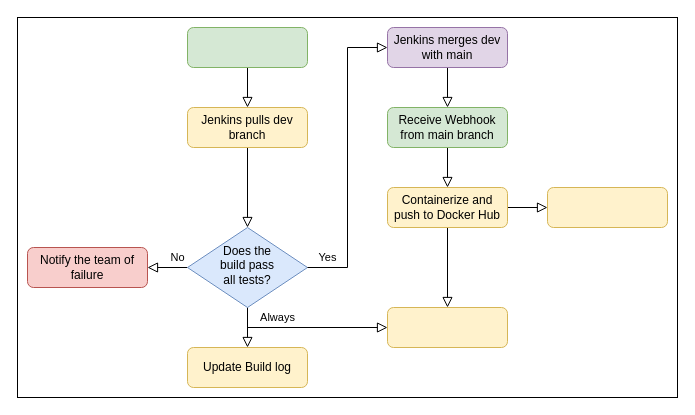
The diagram is 695 pixels wide and 415 high, and some of its shapes have lost their labels. The box of each missing label's shape, as (x1, y1, x2, y2) in pixels:
Clean up docker containers: (386, 306, 508, 348)
Pull onto ec2 and run container: (546, 186, 668, 228)
Receive Webhook from dev branch: (186, 26, 308, 68)
